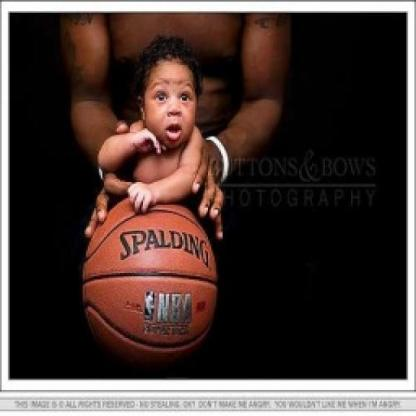basketball: (80, 197, 221, 370)
